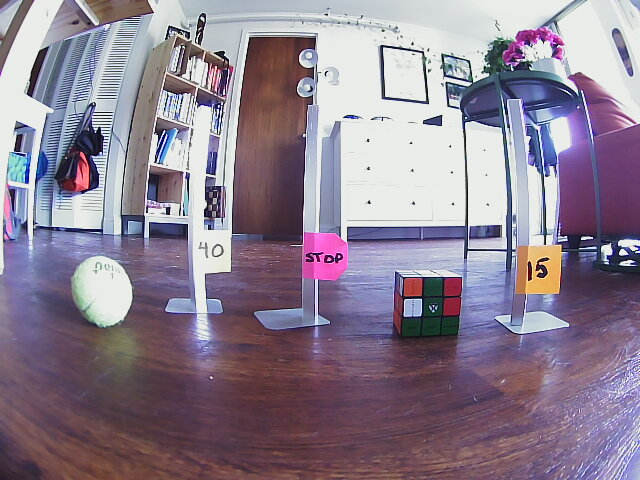15: (514, 244, 564, 299)
40: (185, 225, 237, 276)
ball: (68, 252, 135, 332)
cube: (390, 267, 467, 342)
stop: (301, 230, 351, 285)
